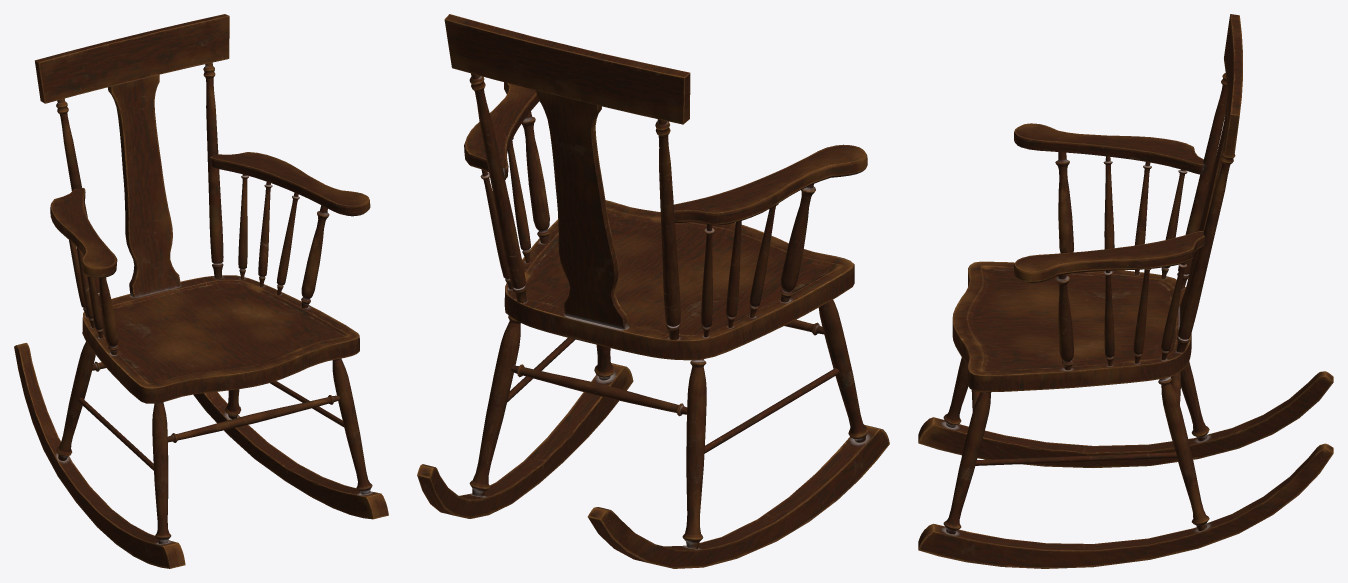
Rendered from wooden-rocking-chair.glb.
The picture shows the model from 3 angles, left to right: view 1: azimuth 30°, elevation 25°; view 2: azimuth 150°, elevation 25°; view 3: azimuth 270°, elevation 25°; orthographic projection. The views are drawn at different scales.
Visible parts, largest first — view 1: Rockingchair_01; view 2: Rockingchair_01; view 3: Rockingchair_01.
Boxes of the visible parts, x1,y1,x2,y2 form: Rockingchair_01: (14, 14, 388, 568); Rockingchair_01: (417, 14, 889, 568); Rockingchair_01: (918, 14, 1333, 568).
Bounding box in the file's own units: 0.7081 × 0.9949 × 0.8335.
Materials: 1 (1 with a texture image).
